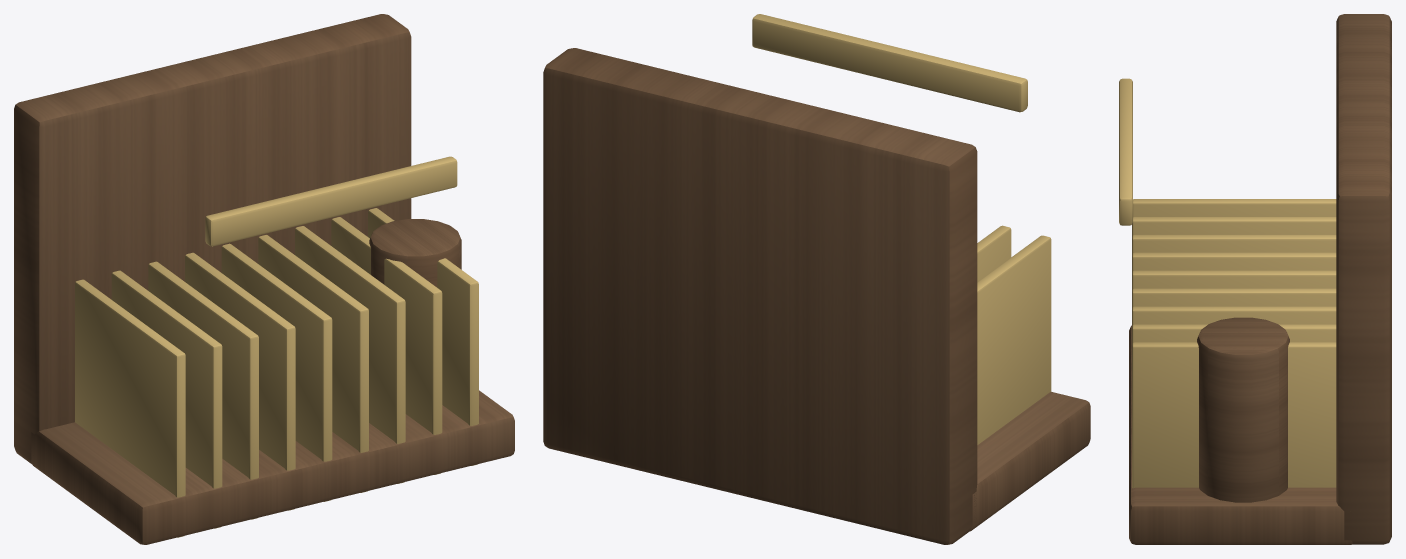
File: scorecard_holder_country_club.glb
The picture shows the model from 3 angles, left to right: view 1: azimuth 30°, elevation 25°; view 2: azimuth 150°, elevation 25°; view 3: azimuth 270°, elevation 25°; orthographic projection. The views are drawn at different scales.
Visible parts, largest first — view 1: ScorecardHolder_Back, ScorecardHolder_Lip, ScorecardHolder_Divider_1, ScorecardHolder_Divider_2, ScorecardHolder_Divider_5, ScorecardHolder_BrassInlay, ScorecardHolder_Divider_4, ScorecardHolder_Divider_6, ScorecardHolder_Divider_7, ScorecardHolder_Divider_3, ScorecardHolder_Divider_8, ScorecardHolder_Divider_9 (+1 smaller); view 2: ScorecardHolder_Back, ScorecardHolder_Divider_1, ScorecardHolder_BrassInlay, ScorecardHolder_Lip, ScorecardHolder_Divider_2; view 3: ScorecardHolder_Back, ScorecardHolder_Divider_9, ScorecardHolder_PencilCup, ScorecardHolder_Lip, ScorecardHolder_Divider_4, ScorecardHolder_Divider_5, ScorecardHolder_Divider_6, ScorecardHolder_Divider_3, ScorecardHolder_Divider_2, ScorecardHolder_Divider_1, ScorecardHolder_Divider_7, ScorecardHolder_Divider_8 (+1 smaller).
Boxes of the visible parts, x1,y1,x2,y2 form: ScorecardHolder_Back: (14,14,411,464); ScorecardHolder_Lip: (31,390,514,544); ScorecardHolder_Divider_1: (75,279,185,537); ScorecardHolder_Divider_2: (111,270,222,528); ScorecardHolder_Divider_5: (221,243,332,501); ScorecardHolder_BrassInlay: (205,156,457,246); ScorecardHolder_Divider_4: (185,252,295,510); ScorecardHolder_Divider_6: (258,235,368,492); ScorecardHolder_Divider_7: (295,226,405,483); ScorecardHolder_Divider_3: (148,261,258,519); ScorecardHolder_Divider_8: (331,217,442,474); ScorecardHolder_Divider_9: (368,208,478,465); ScorecardHolder_Back: (543,48,977,544); ScorecardHolder_Divider_1: (977,235,1051,444); ScorecardHolder_BrassInlay: (752,14,1027,112); ScorecardHolder_Lip: (970,392,1090,531); ScorecardHolder_Divider_2: (977,225,1011,281); ScorecardHolder_Back: (1336,14,1391,544); ScorecardHolder_Divider_9: (1132,342,1336,488); ScorecardHolder_PencilCup: (1197,317,1289,502); ScorecardHolder_Lip: (1129,325,1352,544); ScorecardHolder_Divider_4: (1132,252,1336,272); ScorecardHolder_Divider_5: (1132,270,1336,290); ScorecardHolder_Divider_6: (1132,288,1336,308); ScorecardHolder_Divider_3: (1132,234,1336,254); ScorecardHolder_Divider_2: (1132,217,1336,236); ScorecardHolder_Divider_1: (1133,199,1336,217); ScorecardHolder_Divider_7: (1132,306,1336,326); ScorecardHolder_Divider_8: (1132,324,1336,344).
Size of what is drawn, in the model's own units: 0.38 by 0.34 by 0.2382.
Materials: 2 (1 with a texture image).
